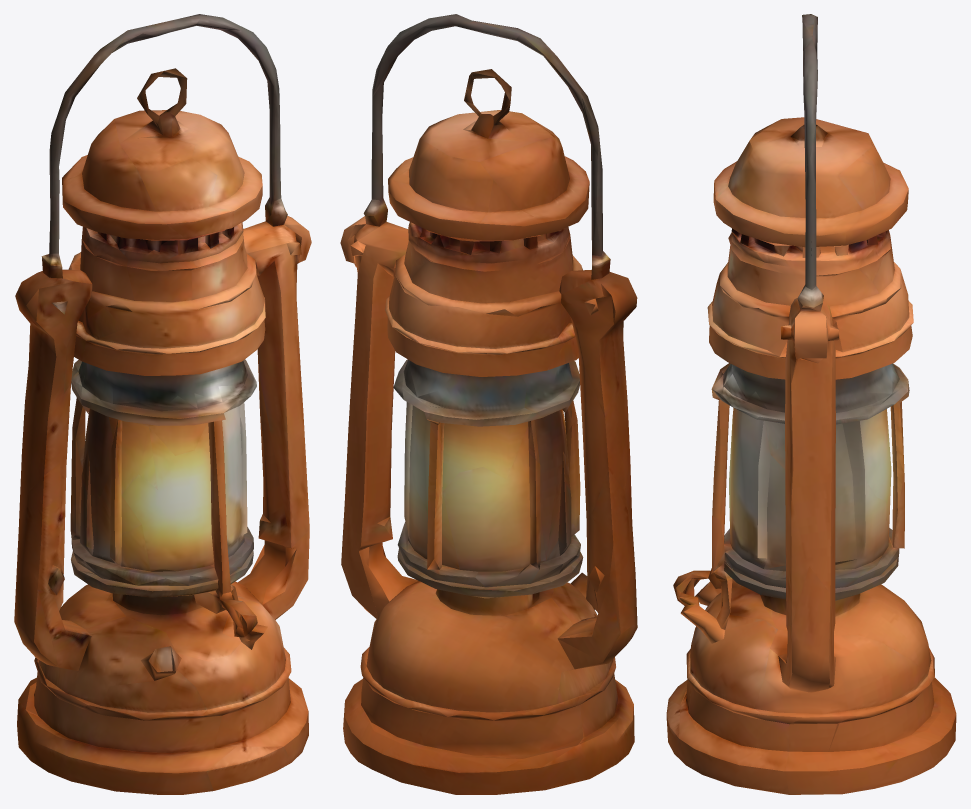
Rendered from m2MineLanternPost.glb.
3 renders of one model, left to right at view 1: azimuth 30°, elevation 25°; view 2: azimuth 150°, elevation 25°; view 3: azimuth 270°, elevation 25°, orthographic.
Parts seen in each view (by area): view 1: model; view 2: model; view 3: model.
Part boxes in pixels (x1=…): model: x1=14, y1=14, x2=311, y2=794; model: x1=340, y1=14, x2=637, y2=794; model: x1=666, y1=14, x2=956, y2=794.
Bounding box in the file's own units: 0.8011 × 1.9 × 0.7083.
Materials: 1 (1 with a texture image).
